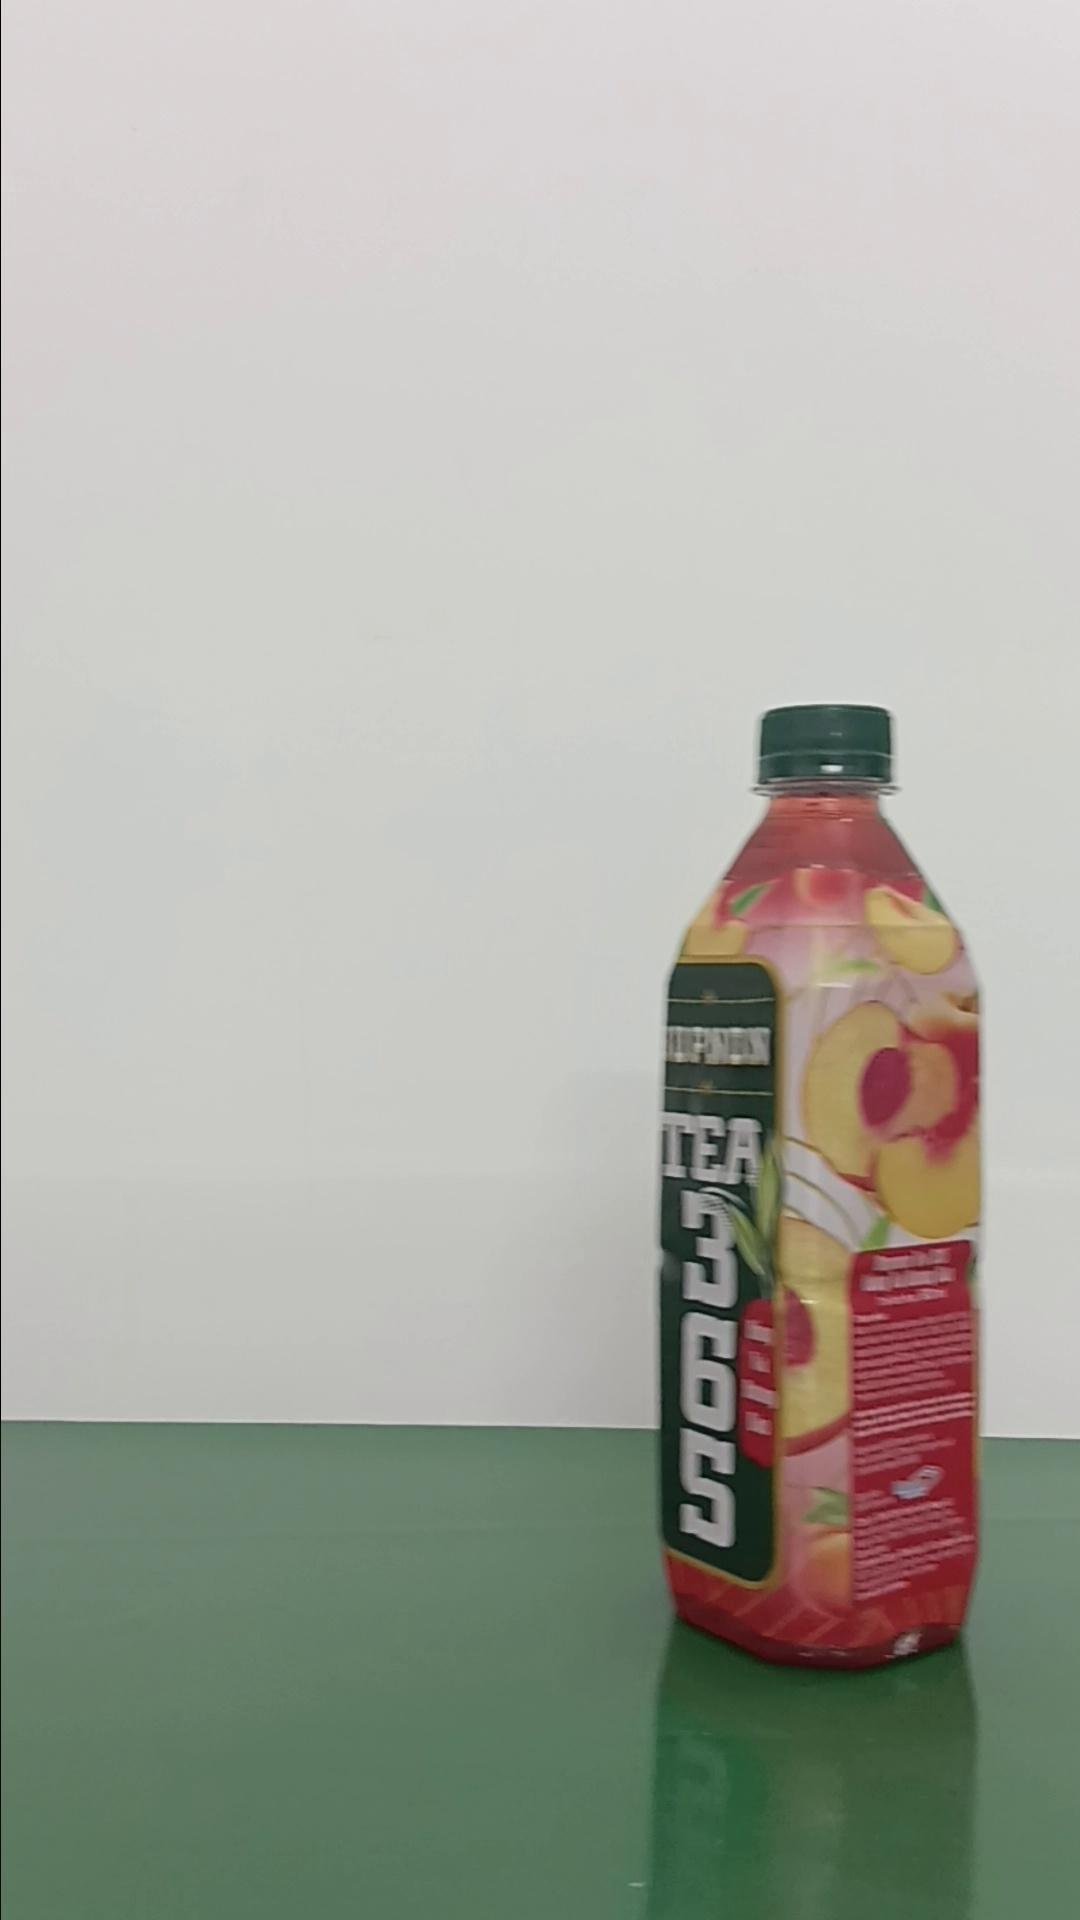khong loi: (651, 699, 986, 1671)
